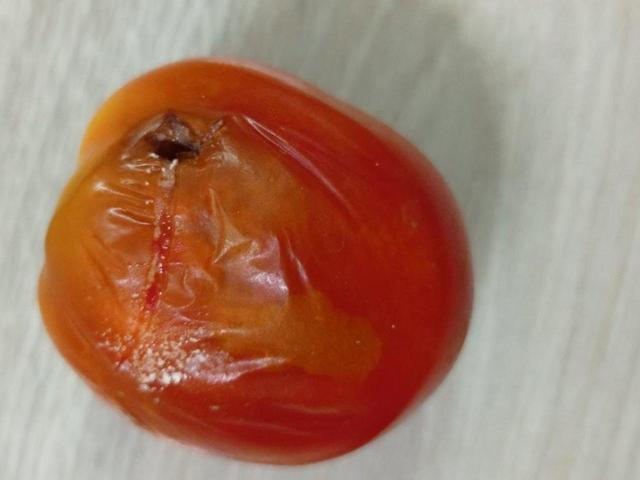defect: (35, 53, 478, 468)
